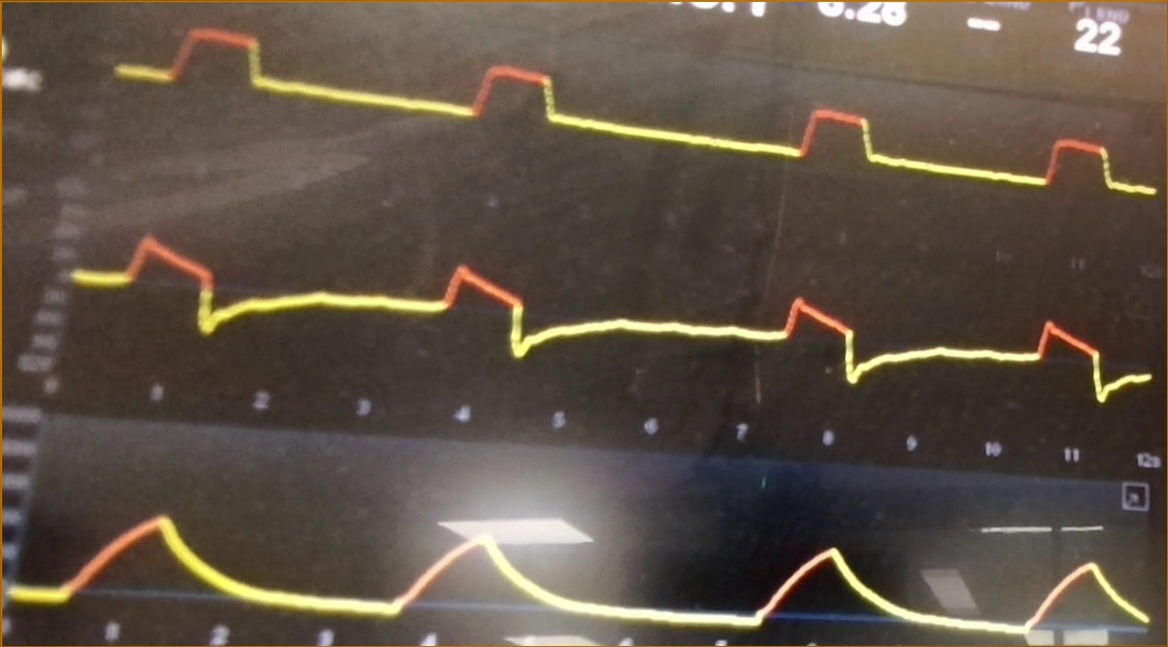Normal Flow: (68, 227, 1153, 404)
Normal Volume: (15, 486, 1153, 636)
